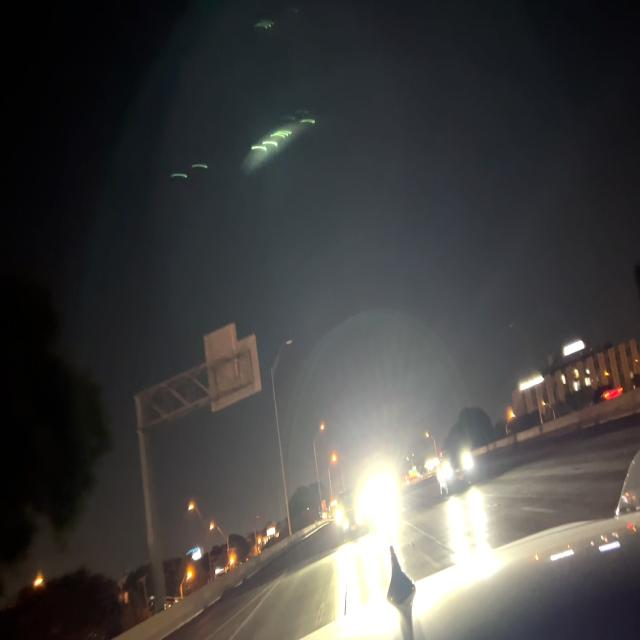back-of-sign: (202, 325, 262, 414)
